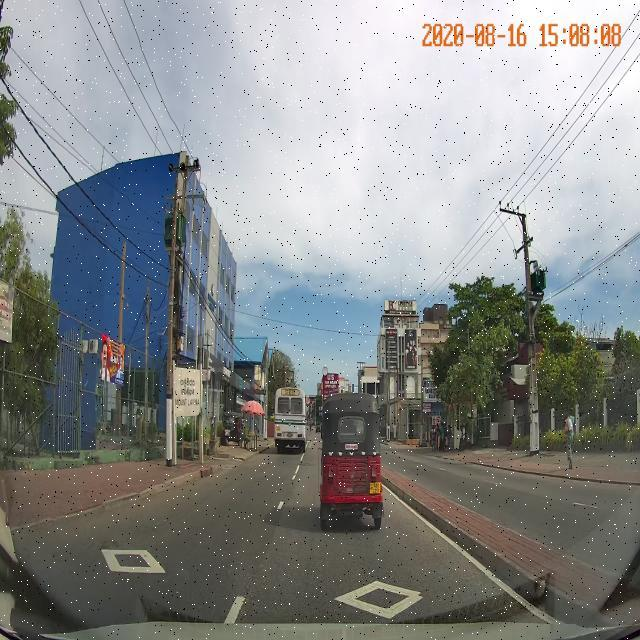diamond: (223, 574, 542, 625)
